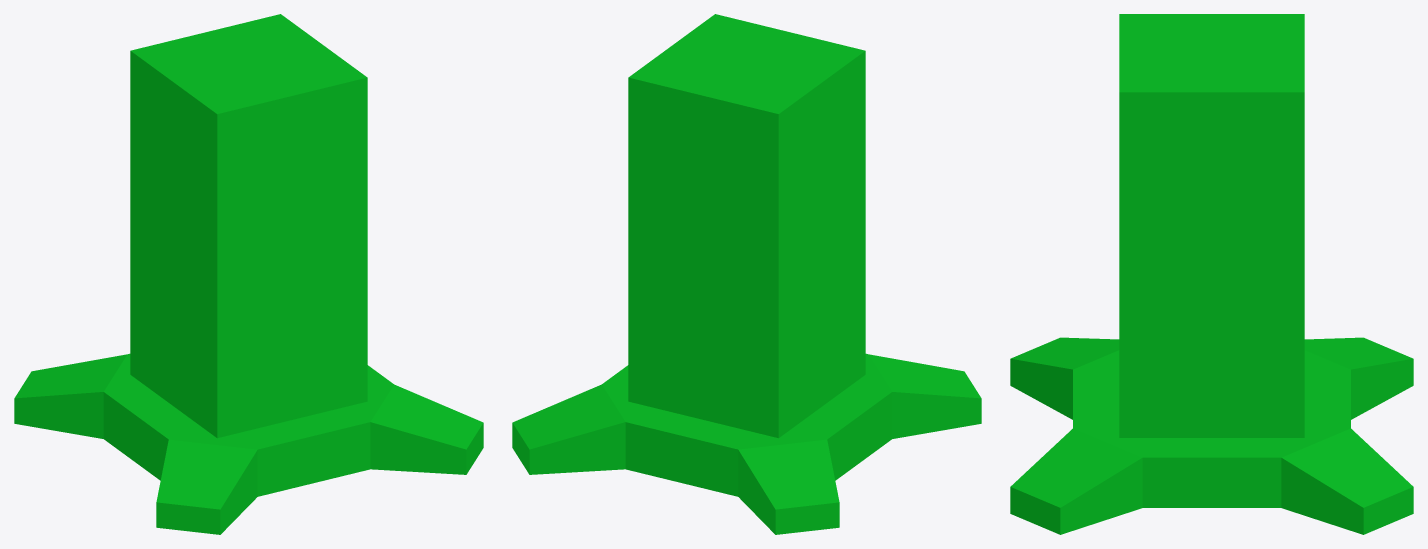
The model's file is common_node.FBX.
3 renders of one model, left to right at view 1: azimuth 30°, elevation 25°; view 2: azimuth 150°, elevation 25°; view 3: azimuth 270°, elevation 25°, orthographic. The views are drawn at different scales.
Visible parts, largest first — view 1: Basement; view 2: Basement; view 3: Basement.
Part boxes in pixels (left/top/right/bottom): Basement: left=14, top=14, right=483, bottom=534; Basement: left=512, top=14, right=981, bottom=534; Basement: left=1010, top=14, right=1413, bottom=534.
Bounding box in the file's own units: 87.05 × 94.51 × 87.05.
